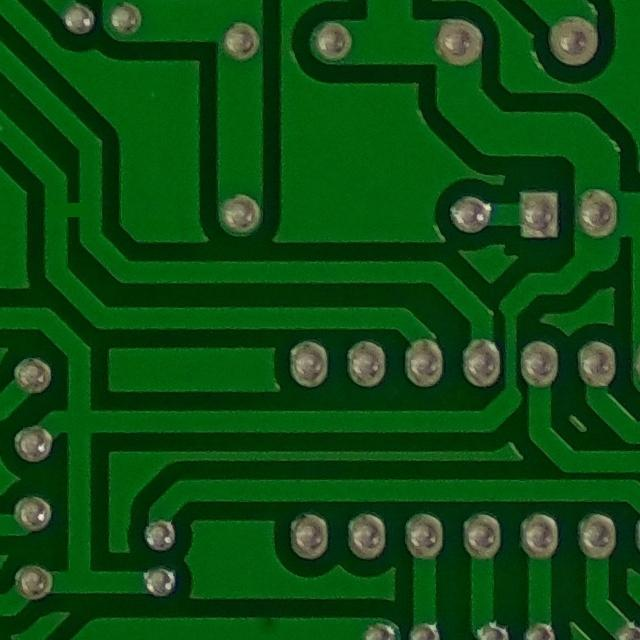short: (33, 169, 108, 246)
